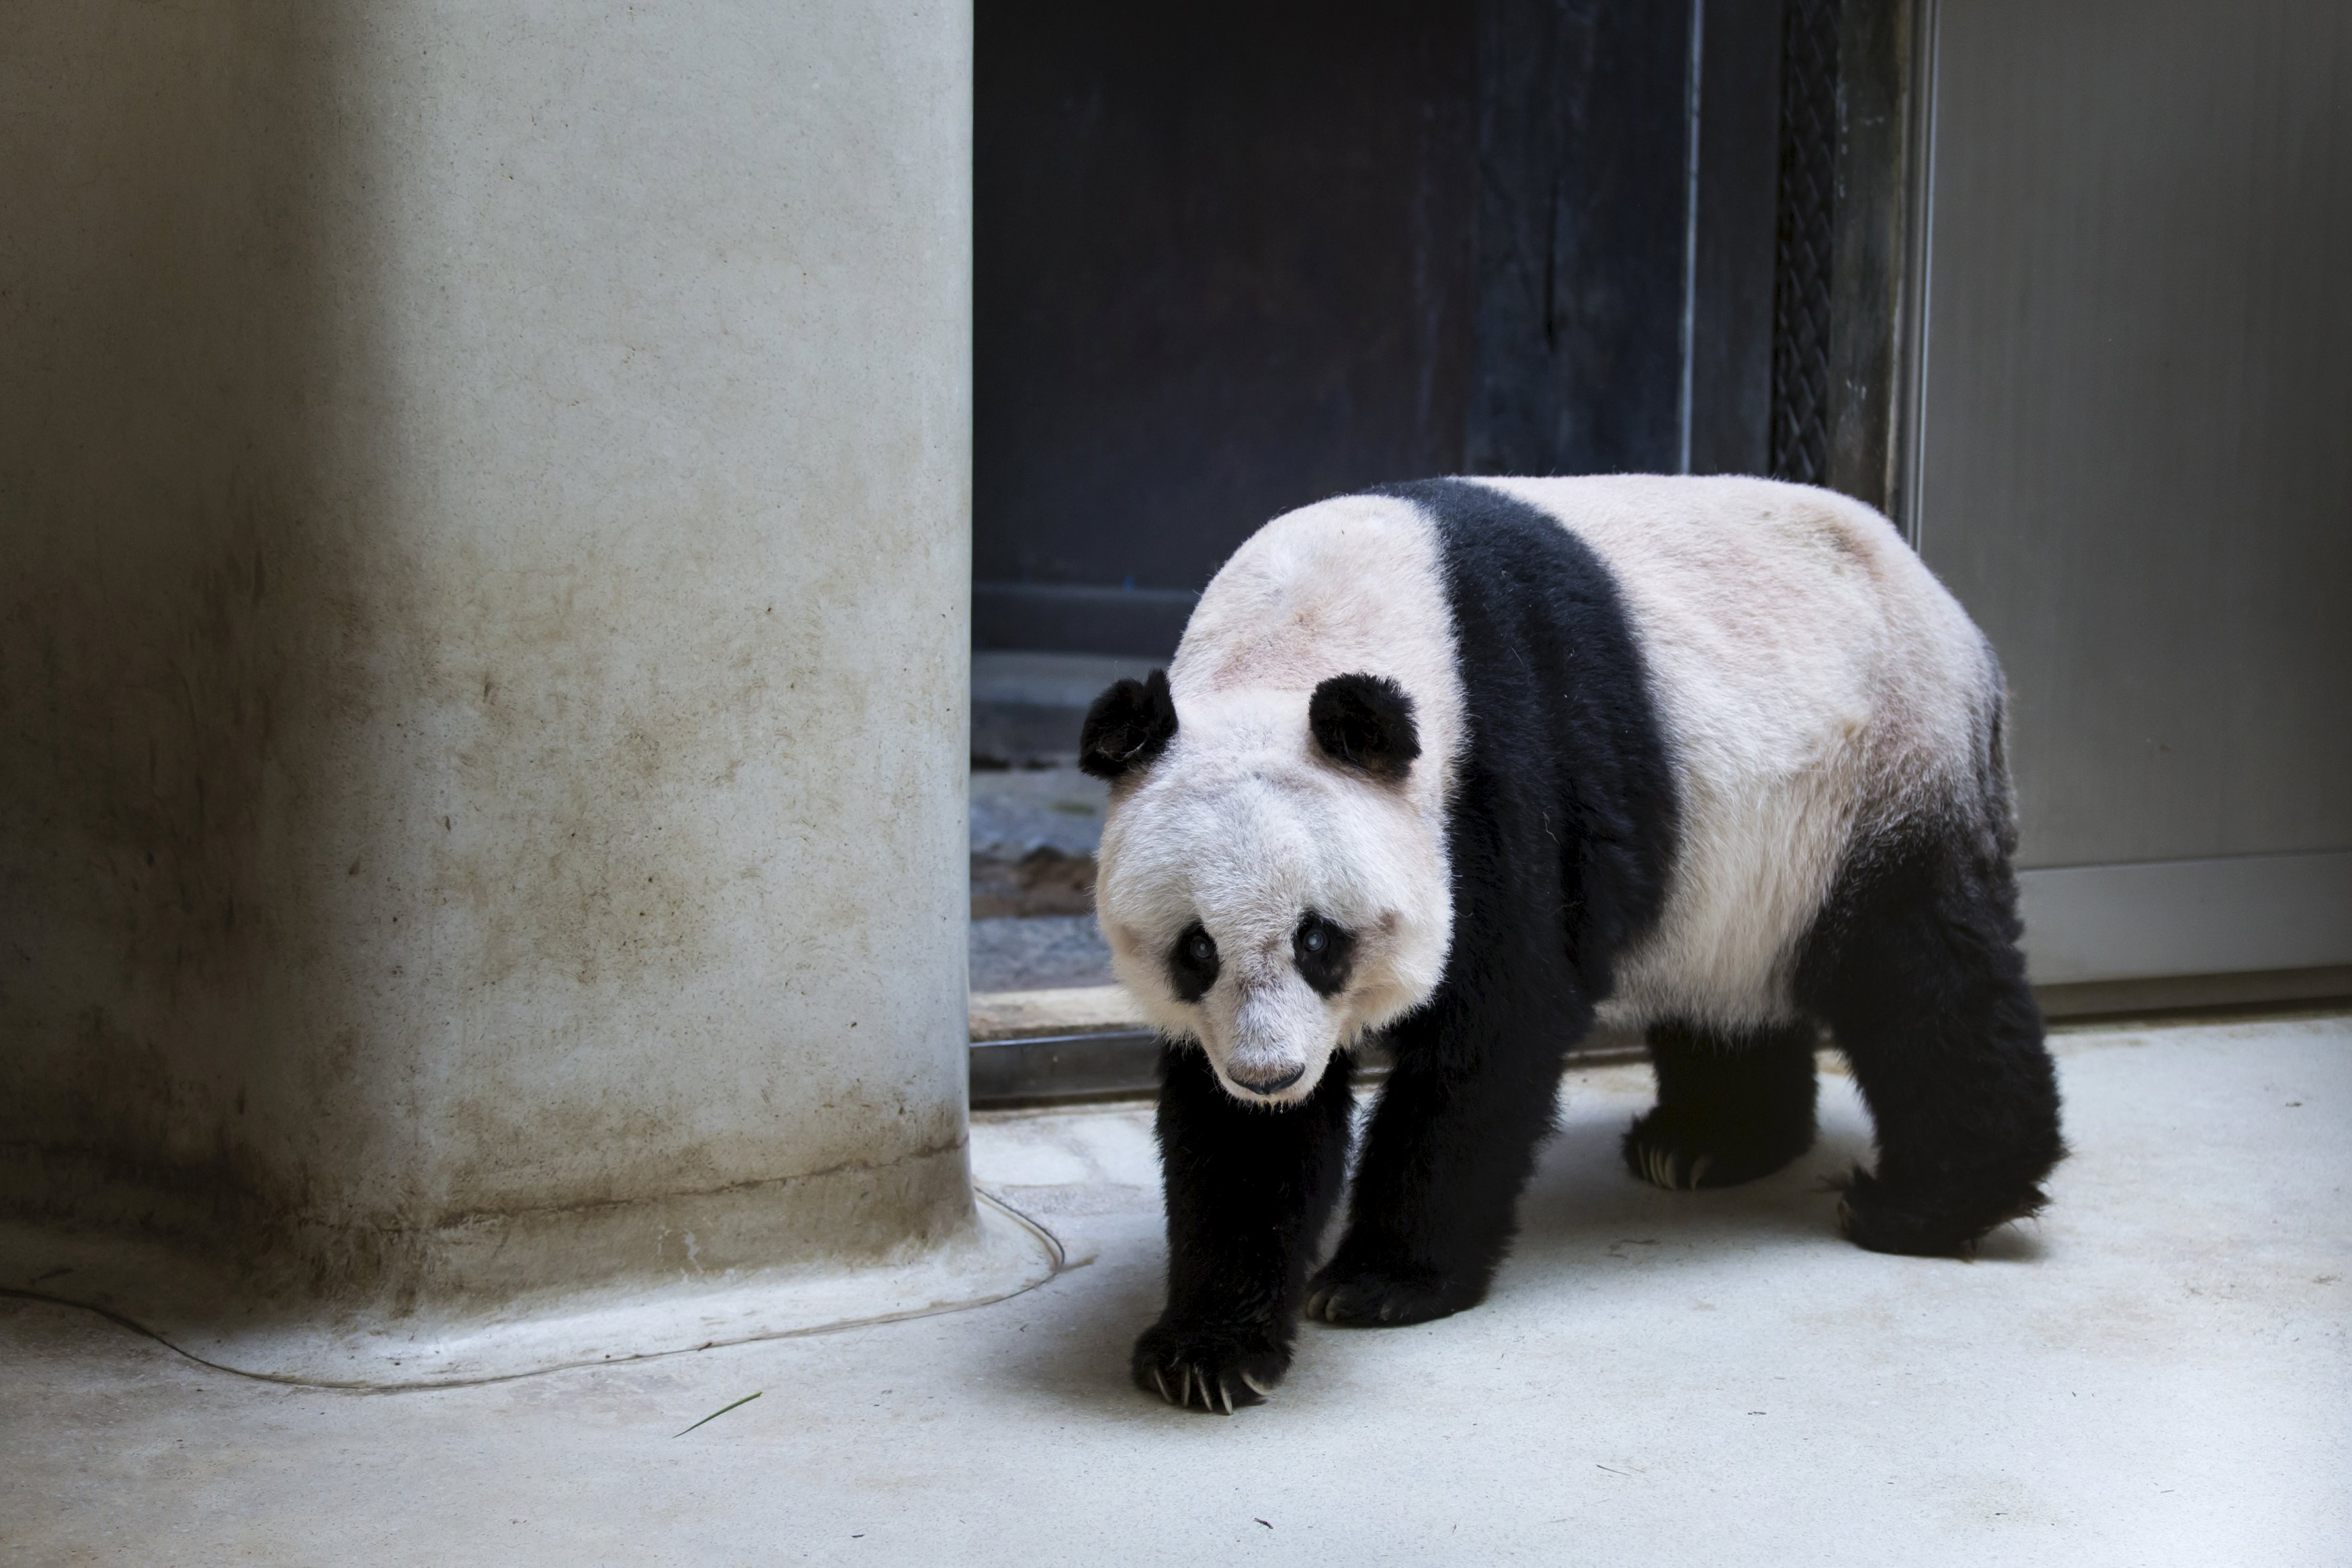panda: (1034, 450, 2102, 1374)
